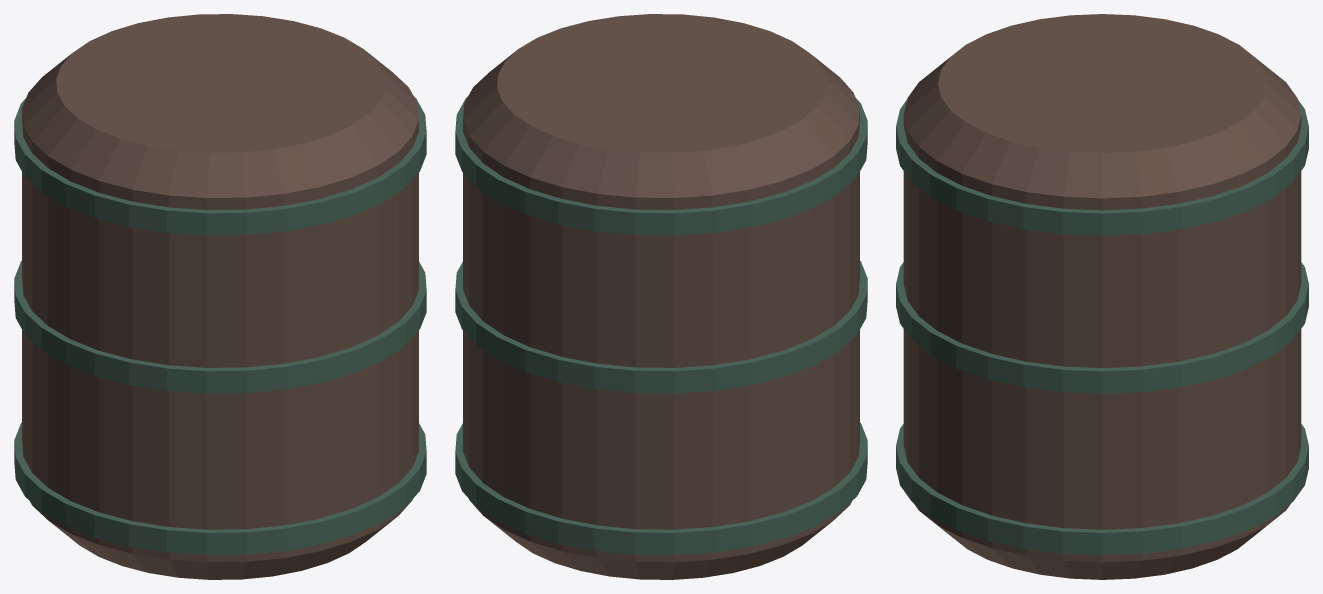
File: Barrel.fbx
3 renders of one model, left to right at view 1: azimuth 30°, elevation 25°; view 2: azimuth 150°, elevation 25°; view 3: azimuth 270°, elevation 25°, orthographic.
Visible parts, largest first — view 1: Cylinder.003; view 2: Cylinder.003; view 3: Cylinder.003.
Boxes of the visible parts, x1,y1,x2,y2 form: Cylinder.003: (14,14,426,579); Cylinder.003: (455,14,867,579); Cylinder.003: (896,14,1308,579).
Bounding box in the file's own units: 220 × 252 × 220.
